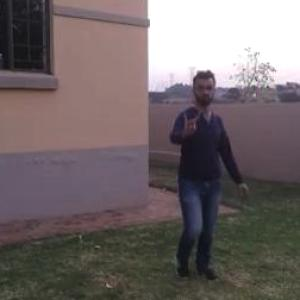takeoff-hand: (172, 104, 208, 144)
